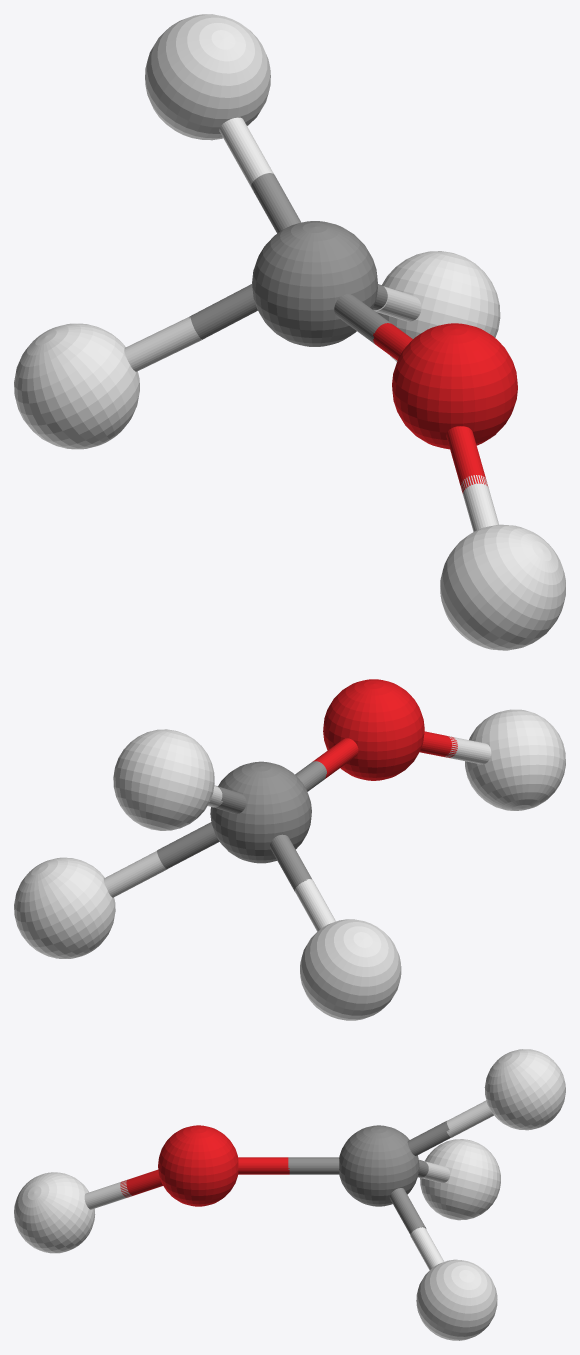
File: methanol(ch3oh).fbx
The picture shows the model from 3 angles, top to bottom: view 1: azimuth 30°, elevation 25°; view 2: azimuth 150°, elevation 25°; view 3: azimuth 270°, elevation 25°; orthographic projection. The views are drawn at different scales.
Visible parts, largest first — view 1: Sphere.004, Sphere.003, Sphere.006, Sphere.000, Sphere.007, Sphere.002, Cylinder.010, Cylinder.007, Cylinder.004, Cylinder.002, Cylinder.005, Cylinder.003 (+3 smaller); view 2: Sphere.006, Sphere.003, Sphere.002, Sphere.004, Sphere.000, Sphere.007, Cylinder.006, Cylinder.008, Cylinder.007, Cylinder.010, Cylinder.001, Cylinder.003 (+3 smaller); view 3: Sphere.000, Sphere.002, Sphere.006, Sphere.004, Sphere.007, Sphere.003, Cylinder, Cylinder.001, Cylinder.004, Cylinder.006, Cylinder.003, Cylinder.005 (+3 smaller).
Part boxes in pixels (x1,y1,x2,y2): Sphere.004: (440,524,565,650); Sphere.003: (14,323,139,449); Sphere.006: (145,14,270,140); Sphere.000: (392,323,517,449); Sphere.007: (252,221,377,346); Sphere.002: (376,251,500,361); Cylinder.010: (124,316,202,371); Cylinder.007: (189,284,257,339); Cylinder.004: (219,117,273,191); Cylinder.002: (446,426,487,493); Cylinder.005: (251,173,301,233); Cylinder.003: (460,475,498,531); Sphere.006: (113,729,214,830); Sphere.003: (300,919,401,1020); Sphere.002: (14,857,115,958); Sphere.004: (465,709,565,810); Sphere.000: (323,679,424,780); Sphere.007: (210,761,311,863); Cylinder.006: (157,822,219,868); Cylinder.008: (104,851,167,897); Cylinder.007: (270,834,312,891); Cylinder.010: (295,879,335,931); Cylinder.001: (312,738,358,779); Cylinder.003: (443,736,491,764); Sphere.000: (158,1125,238,1206); Sphere.002: (416,1259,497,1340); Sphere.006: (484,1049,565,1130); Sphere.004: (14,1172,95,1253); Sphere.007: (339,1125,419,1206); Sphere.003: (420,1139,500,1220); Cylinder: (288,1157,339,1174); Cylinder.001: (238,1157,289,1174); Cylinder.004: (446,1100,493,1137); Cylinder.006: (389,1188,426,1234); Cylinder.003: (84,1180,131,1209); Cylinder.005: (407,1121,450,1155).
Size of the model in its own units: 64.77 by 47.1 by 103.
